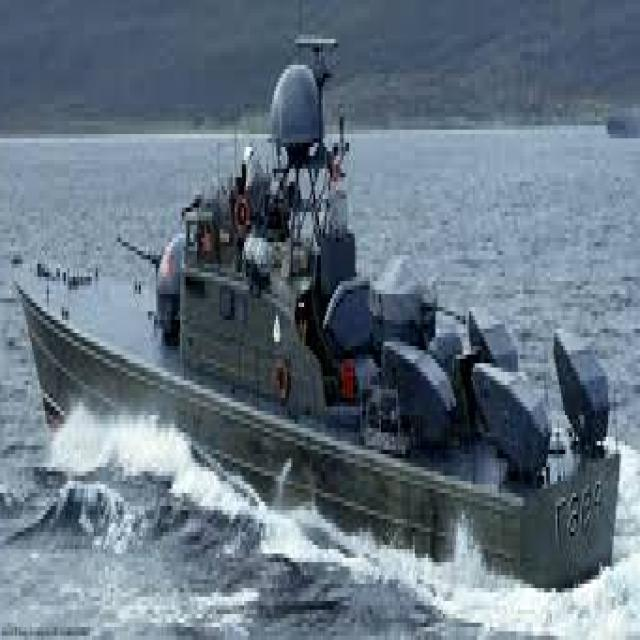navalvessels: (29, 26, 620, 620)
